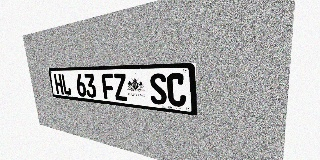3: (84, 74, 97, 98)
6: (75, 74, 87, 97)
C: (166, 73, 186, 107)
F: (101, 74, 115, 100)
H: (54, 74, 64, 95)
L: (61, 74, 72, 95)
S: (149, 73, 167, 105)
Z: (113, 73, 128, 101)
